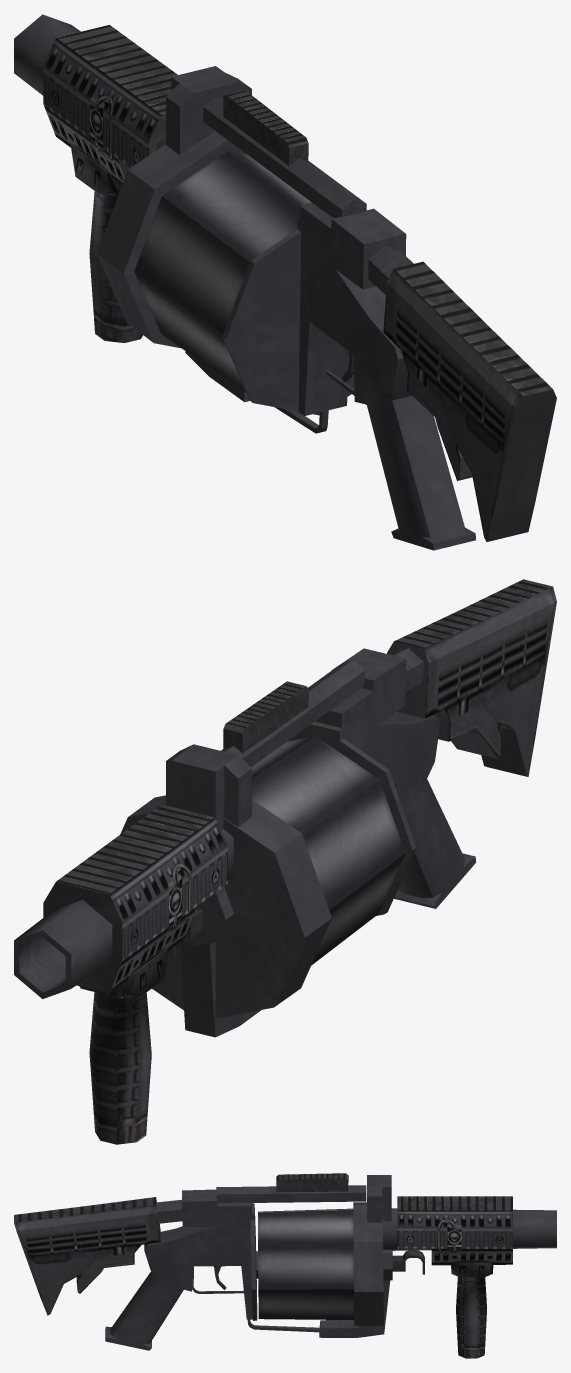
File: ps1GrenadeLauncher.glb
3 views of the same model, one above another, from view 1: azimuth 30°, elevation 25°; view 2: azimuth 150°, elevation 25°; view 3: azimuth 270°, elevation 25° (orthographic). The views are drawn at different scales.
Parts seen in each view (by area): view 1: Cube, Cube.003, Cylinder.001, Cylinder.002, Cube.001, Cube.002, Cylinder.004, Cube.004, Cube.006, Cylinder, Cylinder.003, Cube.005; view 2: Cylinder.002, Cube.003, Cube.001, Cylinder.001, Cube, Cube.002, Cylinder, Cube.004, Cube.005, Cylinder.004, Cube.006, Cylinder.003; view 3: Cylinder.001, Cube, Cube.003, Cube.001, Cylinder.002, Cube.002, Cylinder, Cylinder.004, Cube.005, Cube.006, Cube.004, Cylinder.003 (+1 smaller).
Boxes of the visible parts, <box> form: Cube: <box>297,202,475,550</box>; Cube.003: <box>383,261,556,541</box>; Cylinder.001: <box>134,151,311,392</box>; Cylinder.002: <box>97,131,354,415</box>; Cube.001: <box>43,25,177,185</box>; Cube.002: <box>70,144,142,342</box>; Cylinder.004: <box>203,97,366,218</box>; Cube.004: <box>166,66,251,154</box>; Cube.006: <box>223,90,308,165</box>; Cylinder: <box>14,14,165,150</box>; Cylinder.003: <box>368,246,413,294</box>; Cube.005: <box>185,351,328,433</box>; Cylinder.002: <box>120,734,416,1018</box>; Cube.003: <box>387,579,556,776</box>; Cube.001: <box>43,804,227,993</box>; Cylinder.001: <box>251,736,405,965</box>; Cube: <box>297,648,475,908</box>; Cube.002: <box>79,947,169,1144</box>; Cylinder: <box>14,829,233,999</box>; Cube.004: <box>166,744,251,830</box>; Cube.005: <box>180,941,260,1037</box>; Cylinder.004: <box>221,660,365,767</box>; Cube.006: <box>223,681,308,753</box>; Cylinder.003: <box>390,648,423,690</box>; Cylinder.001: <box>258,1208,354,1319</box>; Cube: <box>105,1189,257,1350</box>; Cube.003: <box>14,1197,160,1315</box>; Cube.001: <box>397,1196,512,1265</box>; Cylinder.002: <box>250,1202,392,1325</box>; Cube.002: <box>451,1262,493,1358</box>; Cylinder: <box>383,1208,556,1250</box>; Cylinder.004: <box>216,1185,366,1202</box>; Cube.005: <box>247,1280,390,1337</box>; Cube.006: <box>276,1173,348,1192</box>; Cube.004: <box>367,1175,391,1222</box>; Cylinder.003: <box>156,1199,182,1223</box>.
Bounding box in the file's own units: 2.67 × 3.96 × 10.99.
1 material, 1 textured.
